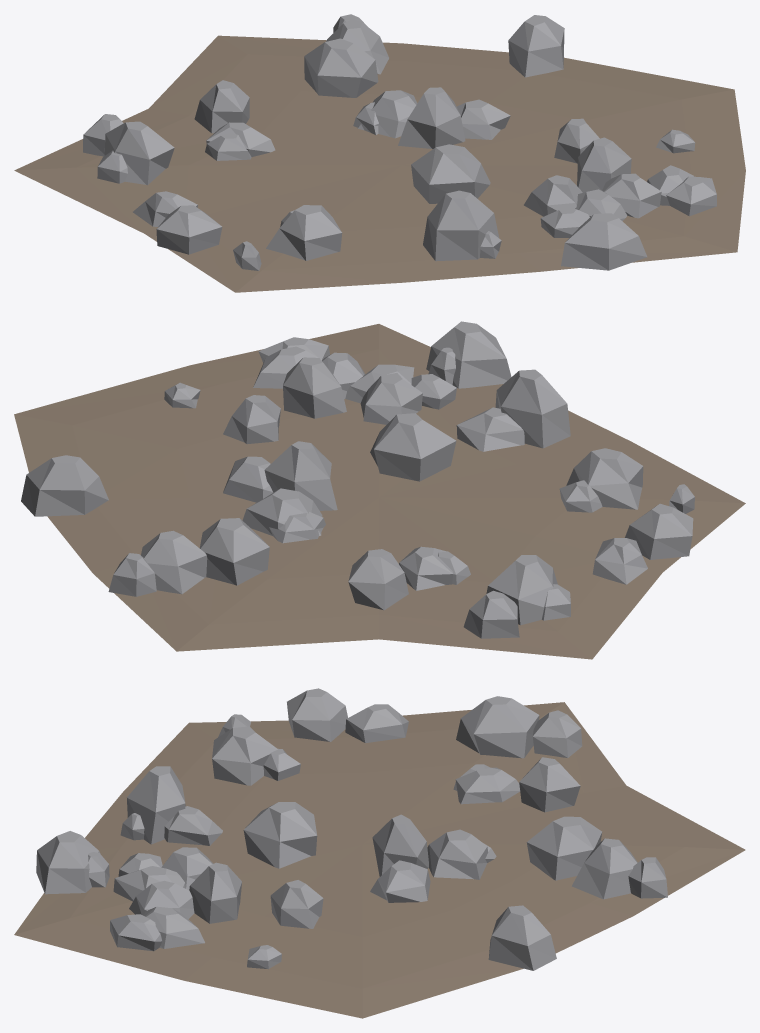
Rendered from temperate-forest-ecology-scree-scatter-e04d14d3__3877.glb.
3 renders of one model, top to bottom at view 1: azimuth 30°, elevation 25°; view 2: azimuth 150°, elevation 25°; view 3: azimuth 270°, elevation 25°, orthographic. The views are drawn at different scales.
Visible parts, largest first — view 1: scree-scatter; view 2: scree-scatter; view 3: scree-scatter.
Part boxes in pixels (x1,y1,x2,y2): scree-scatter: (14, 14, 745, 292); scree-scatter: (14, 321, 745, 659); scree-scatter: (14, 688, 745, 1018).
Size of the model in its own units: 3.55 by 0.3072 by 3.47.
